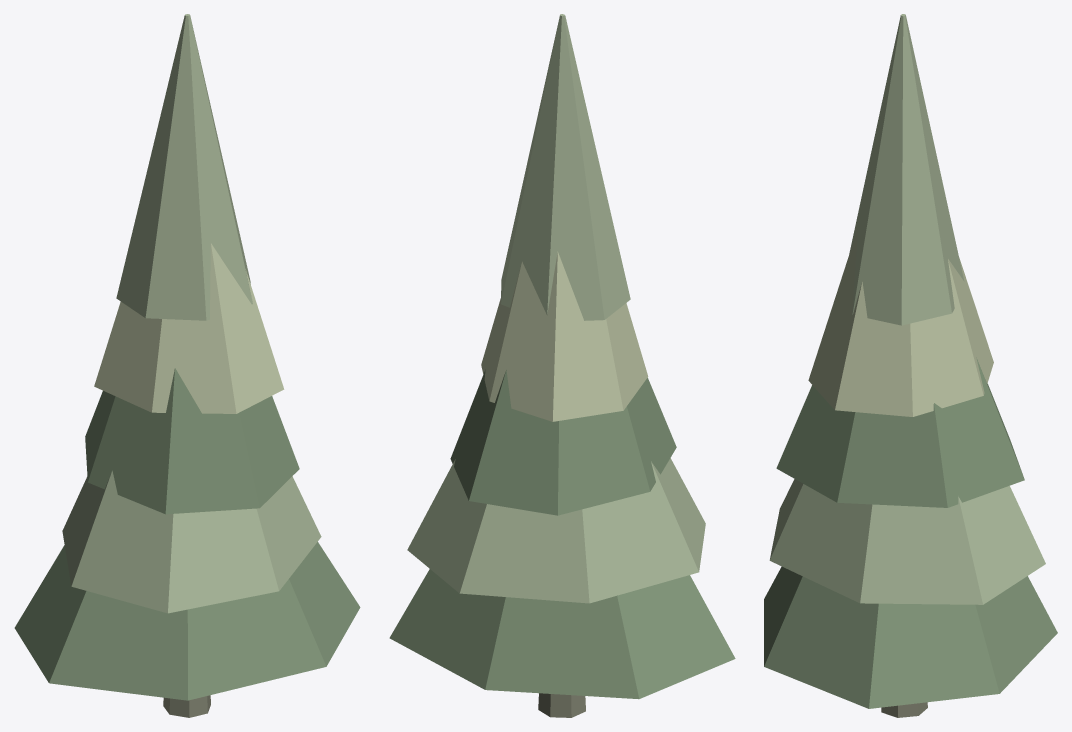
The model's file is pine.glb.
3 renders of one model, left to right at view 1: azimuth 30°, elevation 25°; view 2: azimuth 150°, elevation 25°; view 3: azimuth 270°, elevation 25°, orthographic.
Visible parts, largest first — view 1: needles, needles.001, needles.004, needles.002, needles.003, trunk; view 2: needles, needles.001, needles.002, needles.004, needles.003, trunk; view 3: needles, needles.001, needles.002, needles.004, needles.003, trunk.
Part boxes in pixels (x1=…): needles: x1=14, y1=542, x2=360, y2=700; needles.001: x1=62, y1=470, x2=321, y2=613; needles.004: x1=116, y1=14, x2=252, y2=320; needles.002: x1=85, y1=368, x2=299, y2=514; needles.003: x1=94, y1=243, x2=284, y2=413; trunk: x1=163, y1=695, x2=210, y2=717; needles: x1=389, y1=569, x2=735, y2=699; needles.001: x1=407, y1=458, x2=705, y2=603; needles.002: x1=450, y1=369, x2=676, y2=515; needles.004: x1=501, y1=14, x2=630, y2=320; needles.003: x1=481, y1=251, x2=648, y2=421; trunk: x1=538, y1=693, x2=585, y2=717; needles: x1=764, y1=566, x2=1057, y2=708; needles.001: x1=769, y1=479, x2=1045, y2=604; needles.002: x1=776, y1=357, x2=1024, y2=507; needles.004: x1=849, y1=14, x2=964, y2=325; needles.003: x1=808, y1=227, x2=993, y2=416; trunk: x1=881, y1=702, x2=927, y2=717.
Size of the model in its own units: 2.05 by 4.35 by 1.67.
